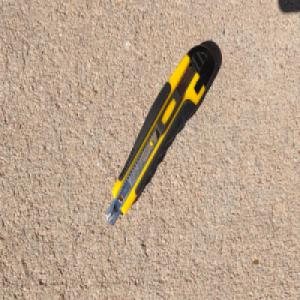Cutter: (105, 42, 216, 228)
